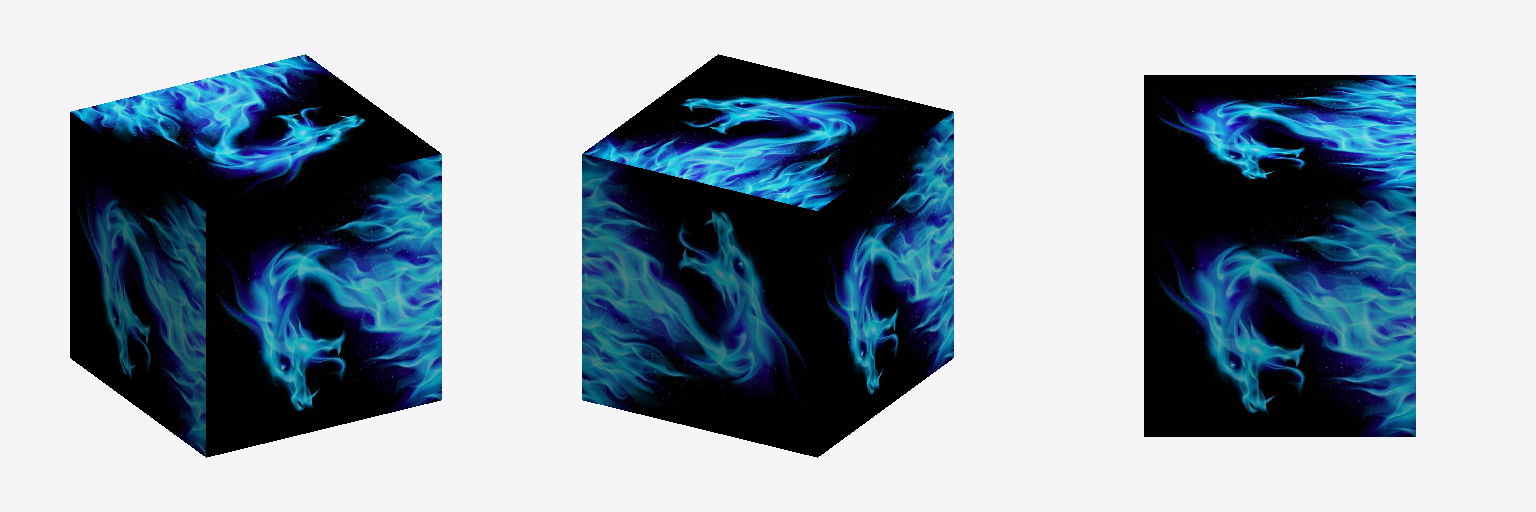
3 views of the same model, side by side, from view 1: azimuth 30°, elevation 25°; view 2: azimuth 150°, elevation 25°; view 3: azimuth 270°, elevation 25° (orthographic).
Visible parts, largest first — view 1: Cube; view 2: Cube; view 3: Cube.
Part boxes in pixels (bbox=[...]): Cube: bbox=[70, 54, 441, 457]; Cube: bbox=[582, 54, 953, 457]; Cube: bbox=[1144, 75, 1415, 436].
Bounding box in the file's own units: 2 × 2 × 2.
Materials: 1 (1 with a texture image).